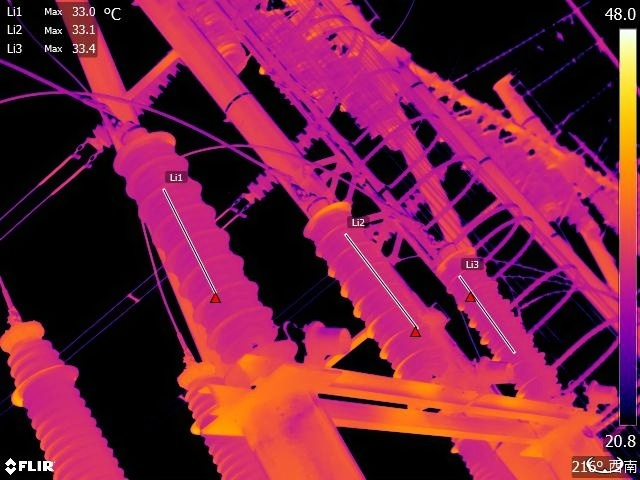insulator: (85, 58, 186, 157), (236, 113, 328, 207)
lightning arrester: (111, 118, 289, 381), (296, 191, 460, 388), (438, 243, 572, 409)
tube: (1, 298, 127, 478), (172, 346, 275, 480)
